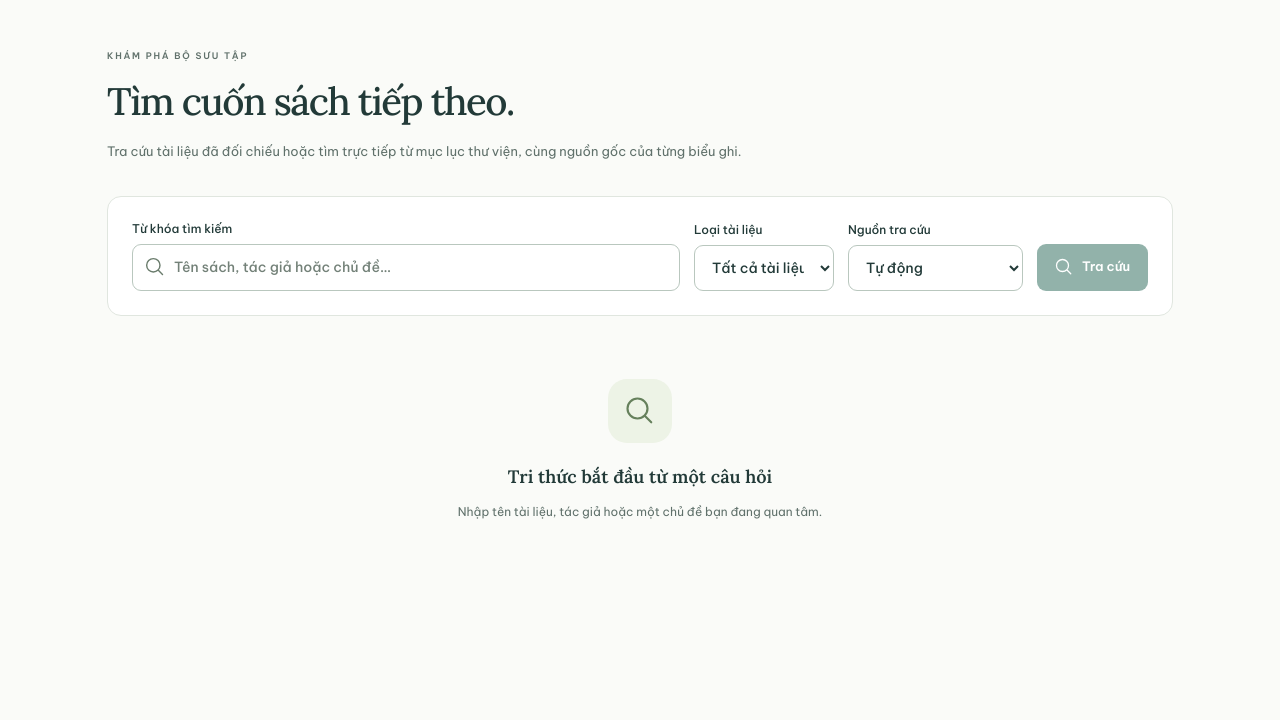
it: opens a local book detail with related records from the API
The image size is (1280, 720).
Type "chi tiết" into the field labelled "Từ khóa tìm kiếm" at (406, 267), box [132, 244, 680, 291]
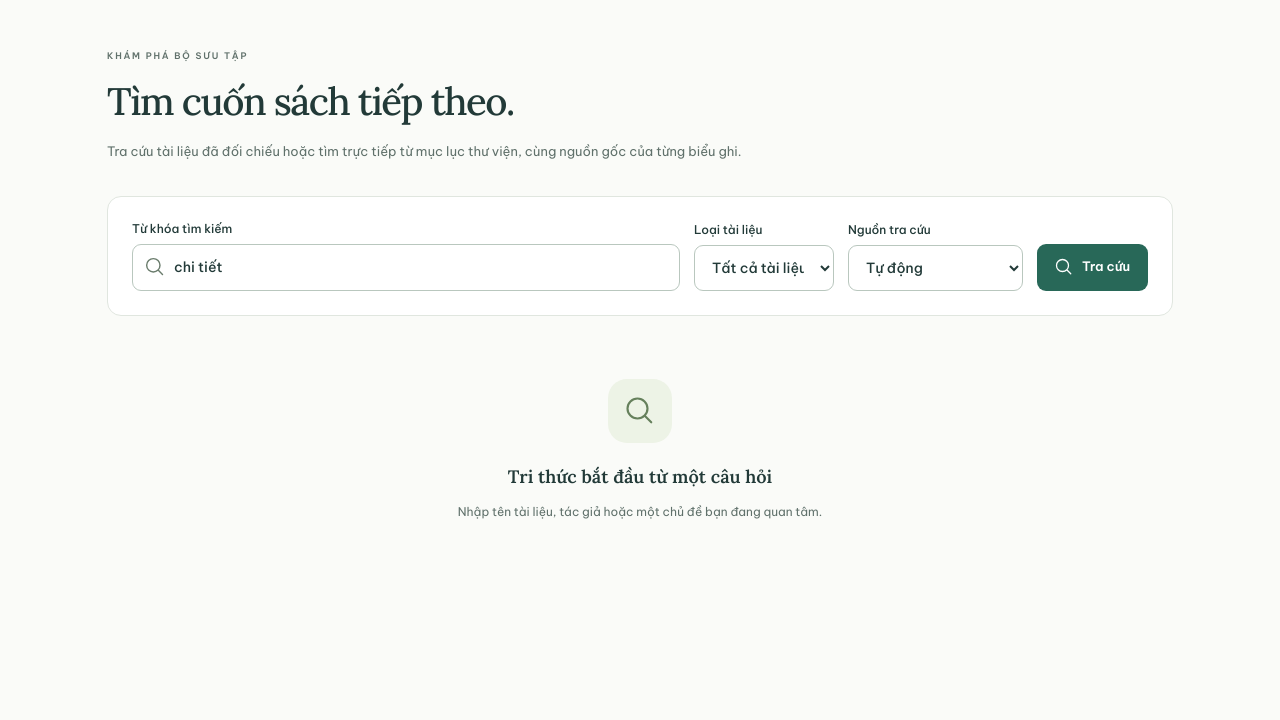
Click the button "Tra cứu" at (1092, 267), box [1037, 244, 1148, 291]
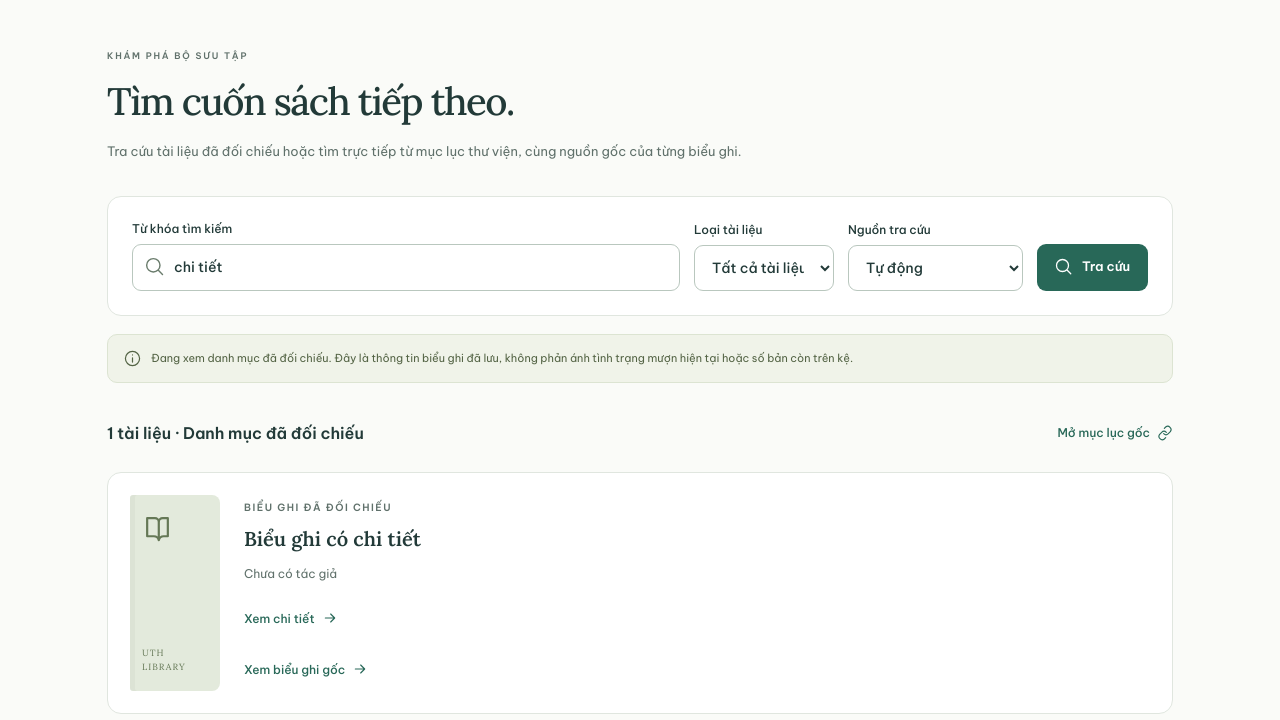
Click the button "Xem chi tiết" at (291, 618), box [244, 596, 338, 640]
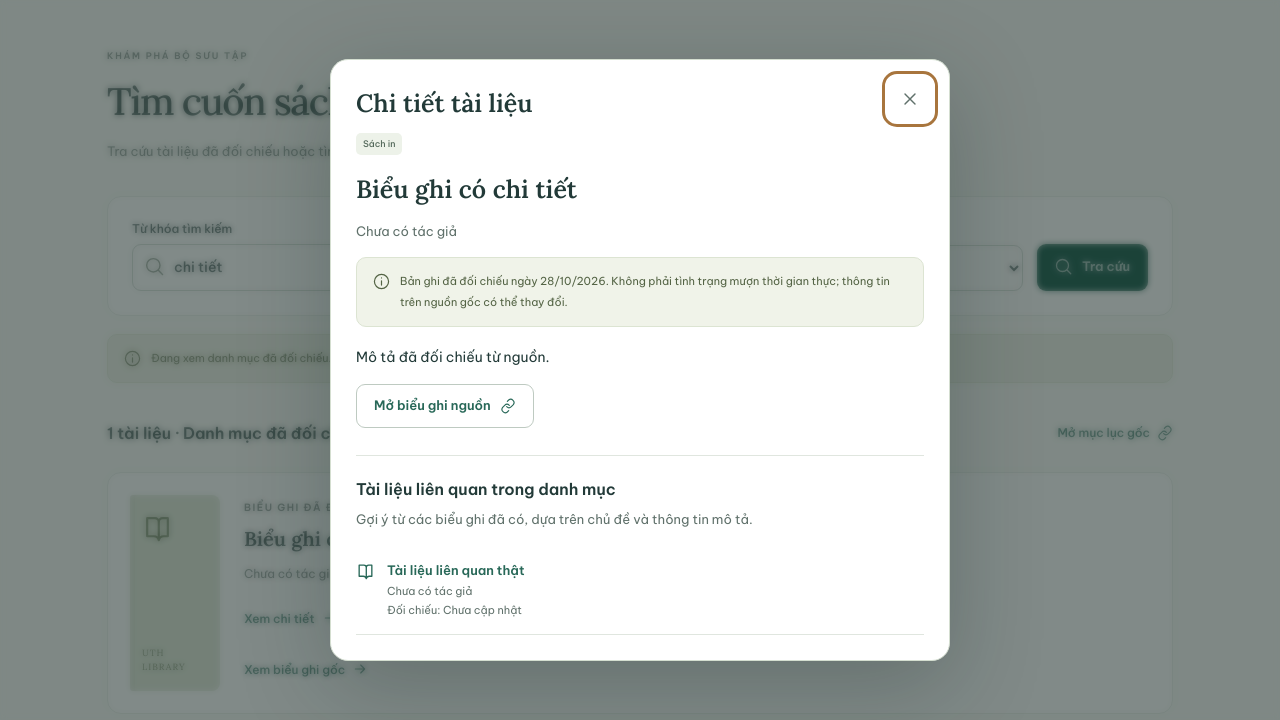
Result: the text "Mô tả đã đối chiếu từ nguồn." is shown at [356, 348, 550, 366]
